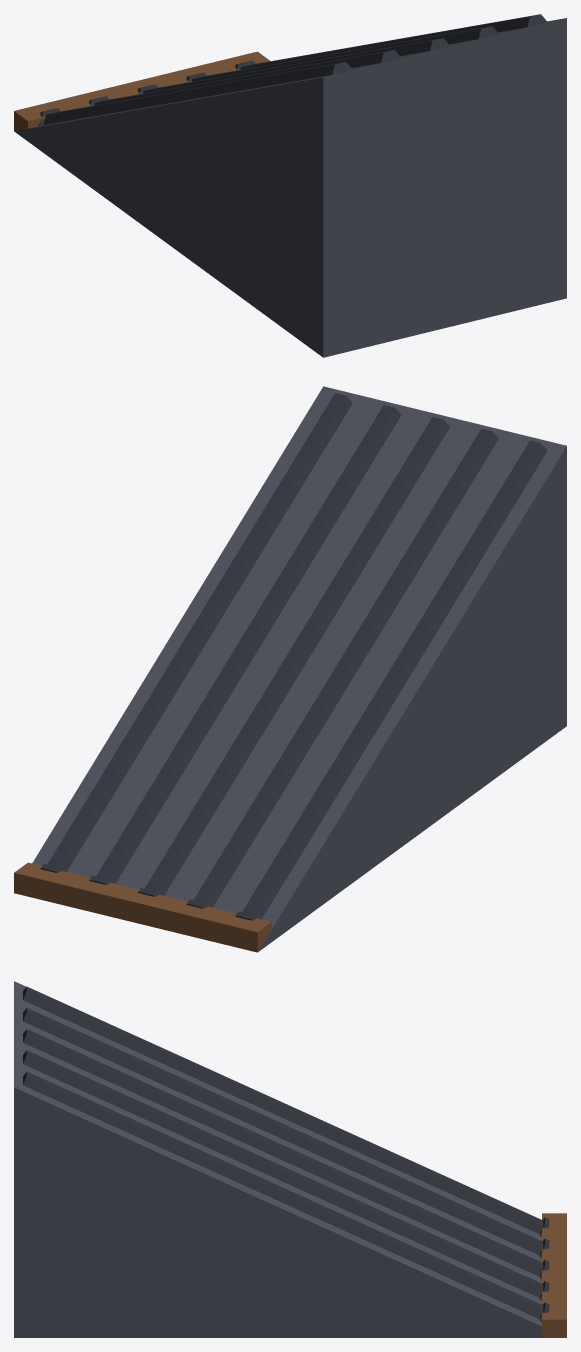
The model's file is sakura_roof_eave_1m.glb.
3 views of the same model, one above another, from view 1: azimuth 30°, elevation 25°; view 2: azimuth 150°, elevation 25°; view 3: azimuth 270°, elevation 25° (orthographic). The views are drawn at different scales.
Parts seen in each view (by area): view 1: sakura_roof_eave_1m; view 2: sakura_roof_eave_1m; view 3: sakura_roof_eave_1m.
Part boxes in pixels (box(x1,y1,x2,y2)): sakura_roof_eave_1m: box(14, 14, 566, 357); sakura_roof_eave_1m: box(14, 386, 566, 952); sakura_roof_eave_1m: box(14, 981, 566, 1337).
Size of the model in its own units: 1 by 1.11 by 2.2.
Materials: 1 (1 with a texture image).
